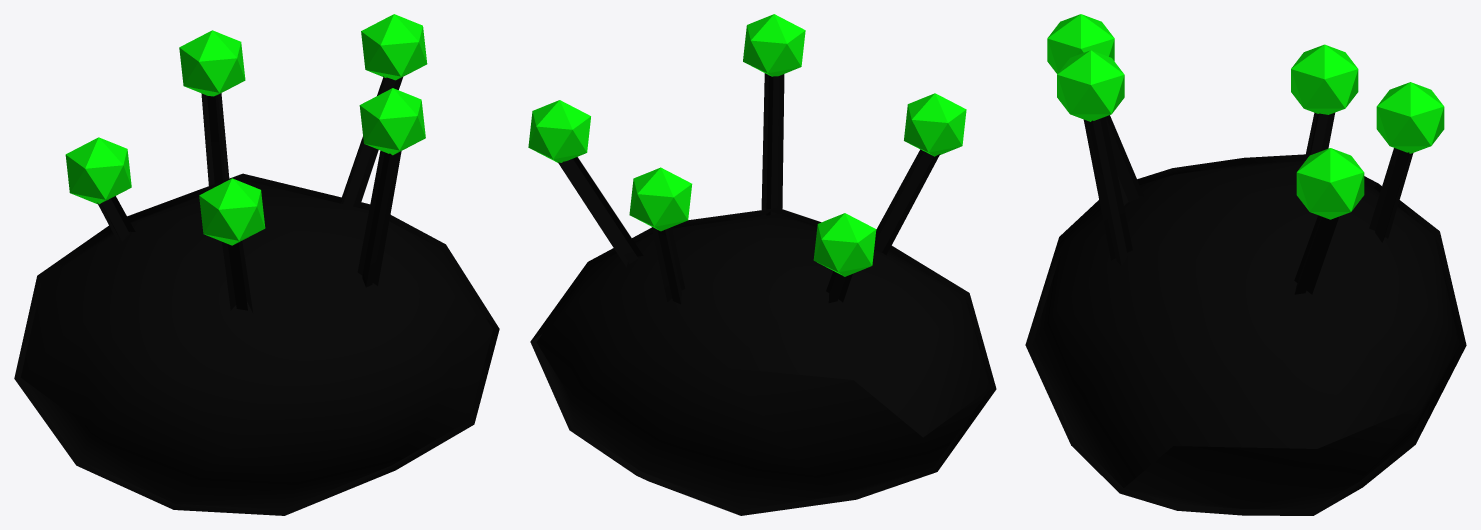
File: SM_Bush_08.fbx
The picture shows the model from 3 angles, left to right: view 1: azimuth 30°, elevation 25°; view 2: azimuth 150°, elevation 25°; view 3: azimuth 270°, elevation 25°; orthographic projection. The views are drawn at different scales.
Visible parts, largest first — view 1: SM_Bush_08; view 2: SM_Bush_08; view 3: SM_Bush_08.
Boxes of the visible parts, x1,y1,x2,y2 form: SM_Bush_08: [14, 14, 499, 515]; SM_Bush_08: [528, 14, 996, 515]; SM_Bush_08: [1025, 14, 1466, 515].
Size of the model in its own units: 1.18 by 1.16 by 1.01.
